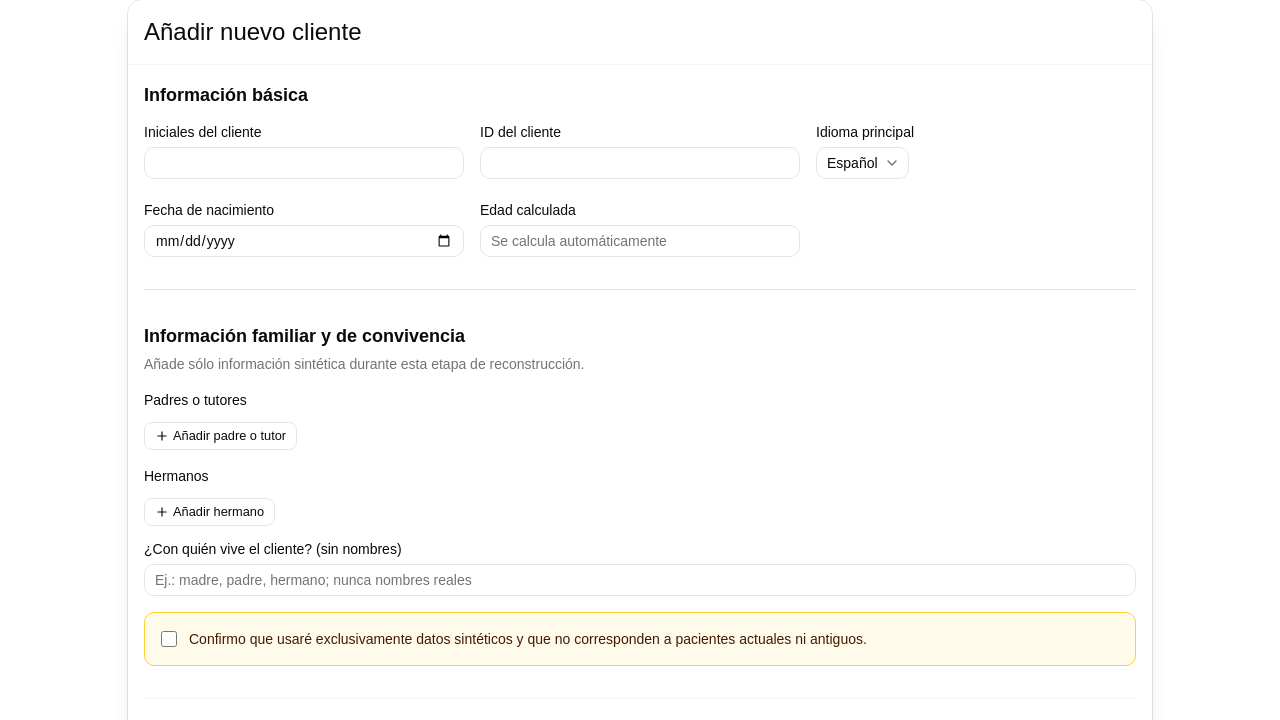
Test case: ClientForm › exige confirmar que el caso es sintético
The image size is (1280, 720).
In the field labelled "Iniciales del cliente": (304, 163) [144,147,464,179], type "AB"
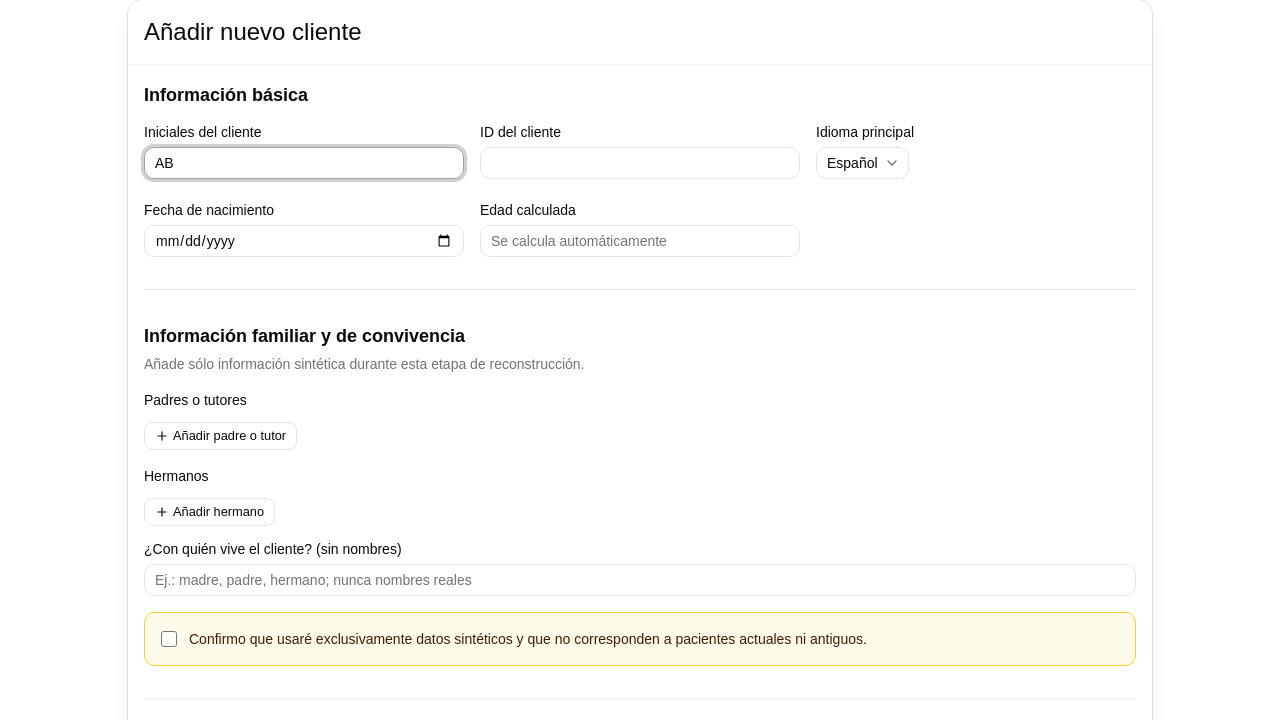
In the field labelled "ID del cliente": (640, 163) [480,147,800,179], type "SYN-004"
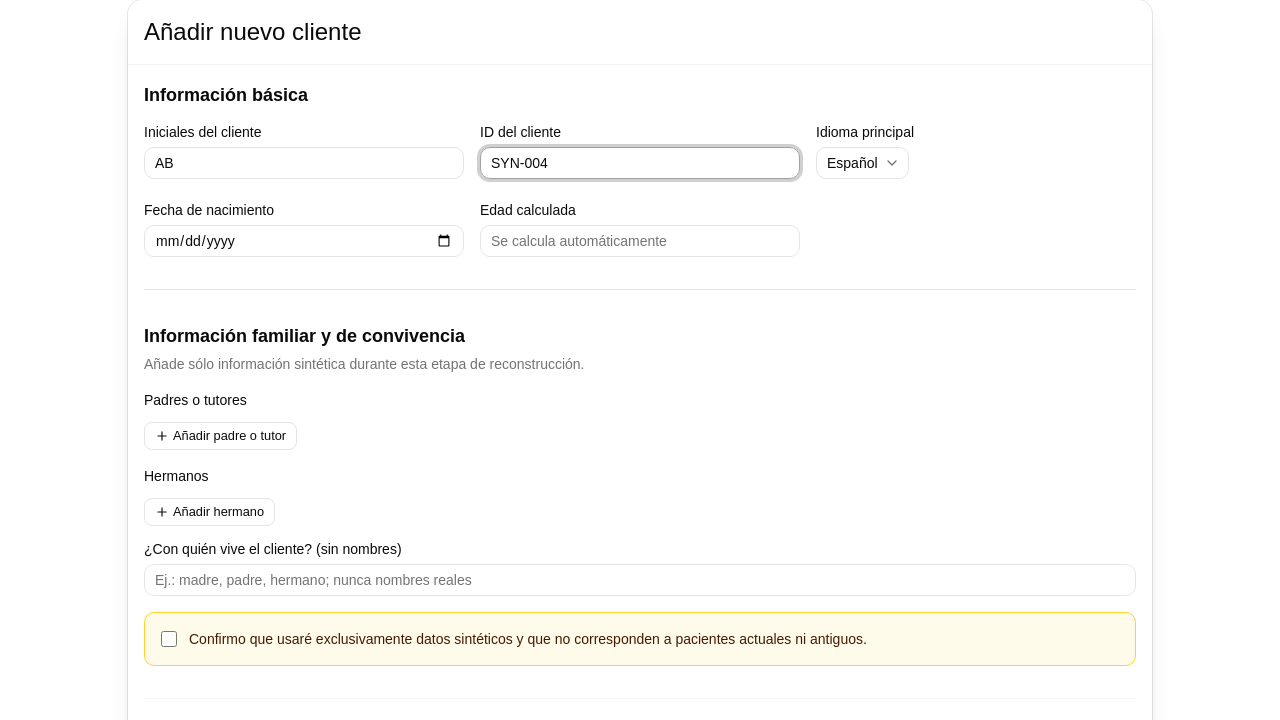
In the date field labelled "Fecha de nacimiento": (304, 241) [144,225,464,257], type "2020-02-29"
(page scrolled)
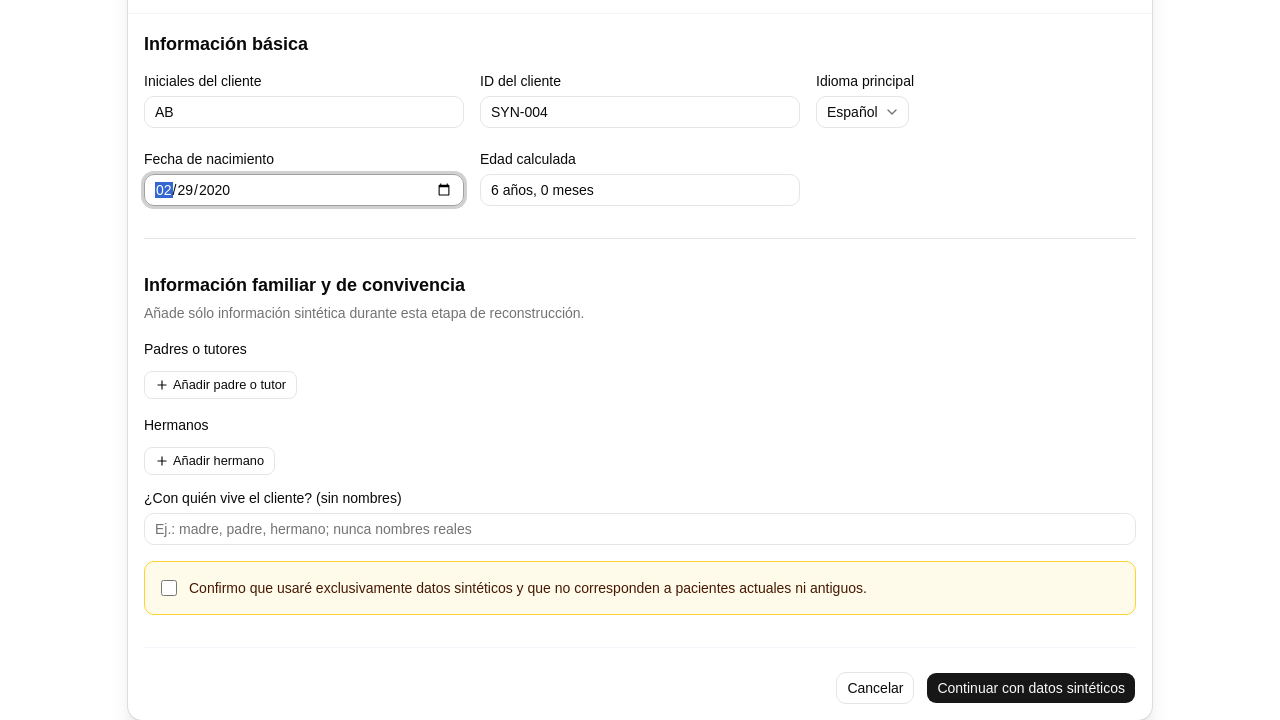
Click the button "Continuar con datos sintéticos": click(1031, 688) [926,672,1136,704]
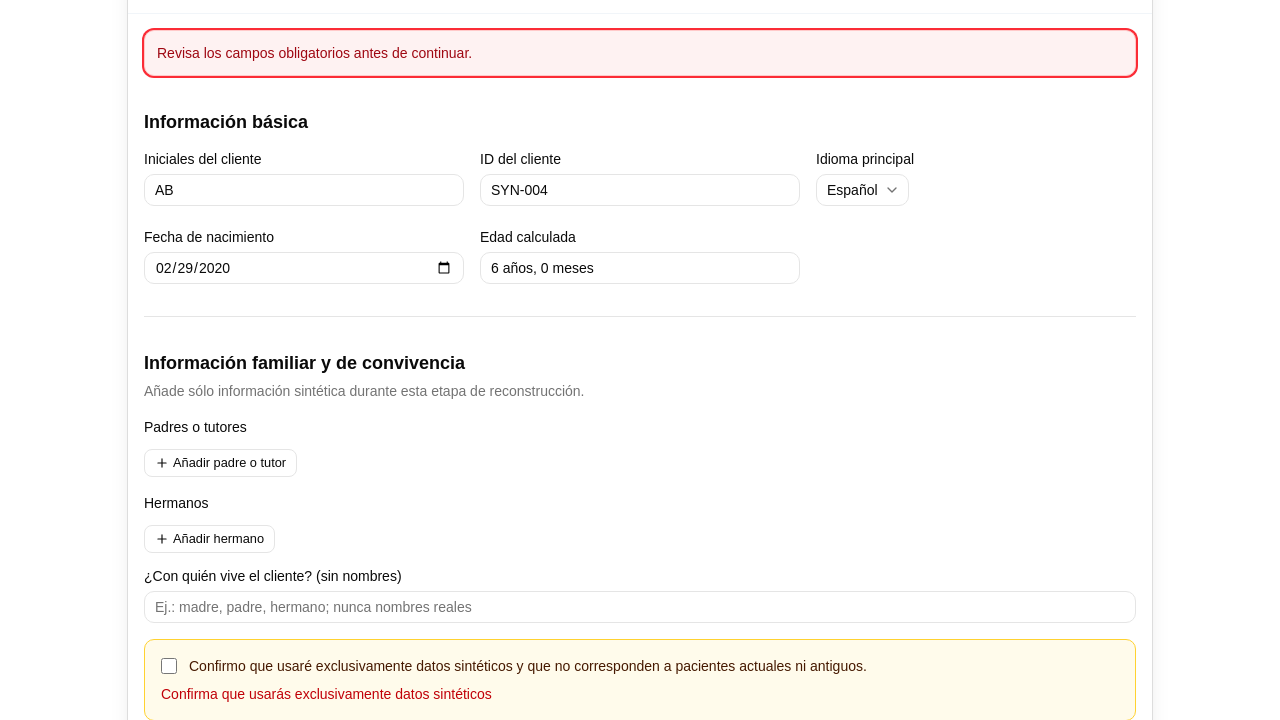
Result: the text "Confirma que usarás exclusivamente datos sintéticos" is shown at [161,686,492,702]
